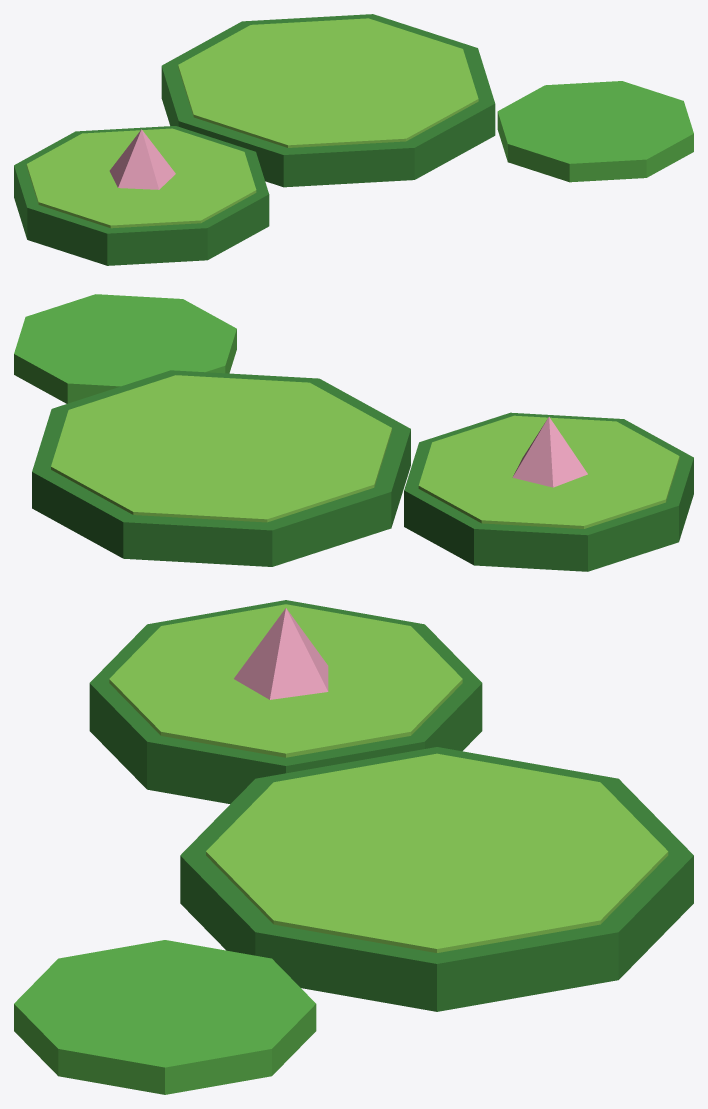
Rendered from vitoria_regia.glb.
3 views of the same model, one above another, from view 1: azimuth 30°, elevation 25°; view 2: azimuth 150°, elevation 25°; view 3: azimuth 270°, elevation 25° (orthographic). The views are drawn at different scales.
Parts seen in each view (by area): view 1: corpo; view 2: corpo; view 3: corpo.
Boxes of the visible parts, left/top/right/bottom form: corpo: left=14, top=14, right=693, bottom=265; corpo: left=14, top=294, right=693, bottom=571; corpo: left=14, top=600, right=693, bottom=1094.
Bounding box in the file's own units: 0.7 × 0.09 × 0.45.
